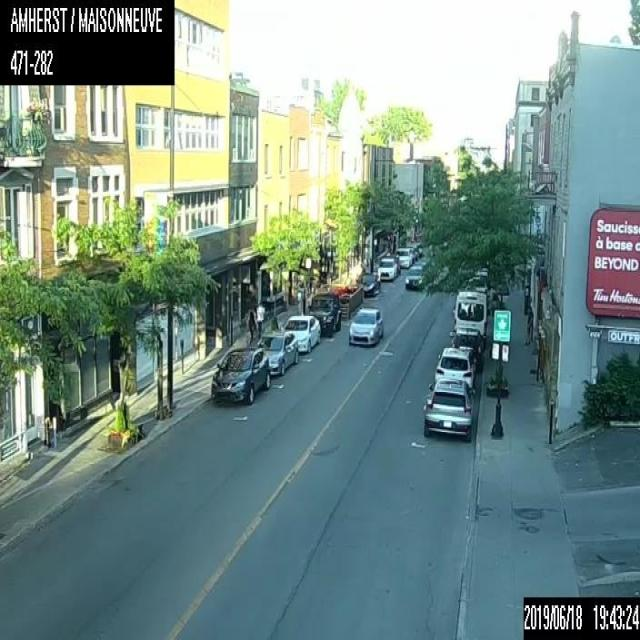pedestrian: (255, 300, 264, 338), (247, 309, 256, 343), (525, 306, 533, 344)
vehicle: (210, 346, 270, 404), (422, 378, 475, 441), (452, 290, 487, 344), (256, 331, 298, 374), (434, 346, 476, 387), (346, 304, 384, 347), (307, 292, 341, 336), (281, 314, 320, 352), (450, 326, 483, 368), (355, 272, 380, 296), (377, 254, 400, 280), (404, 265, 425, 289), (466, 275, 487, 293), (395, 248, 412, 267)
